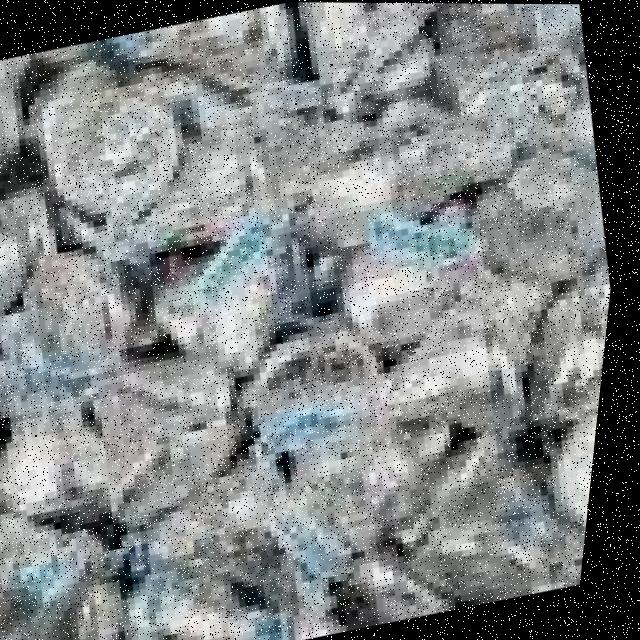kisses: (114, 189, 333, 391), (358, 301, 580, 459), (315, 198, 512, 374), (0, 337, 151, 548), (31, 73, 210, 235)
